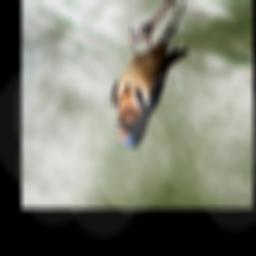Swallow: (109, 1, 186, 150)
